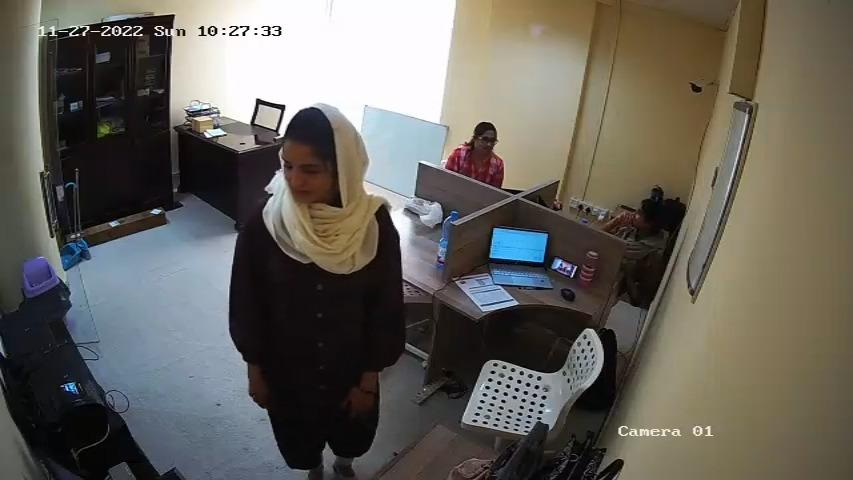no_apron: (243, 210, 398, 349), (168, 209, 169, 210)
